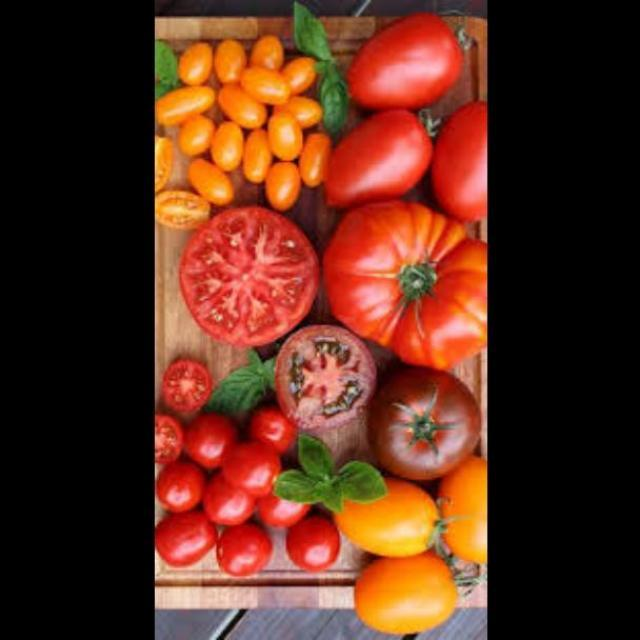Tomato: (155, 358, 338, 577), (154, 35, 334, 224), (317, 195, 487, 362), (180, 205, 324, 349), (336, 16, 472, 117), (274, 318, 381, 436), (322, 104, 442, 208), (326, 471, 450, 558), (372, 363, 472, 469), (349, 555, 472, 637), (421, 90, 488, 219), (432, 446, 488, 582)
